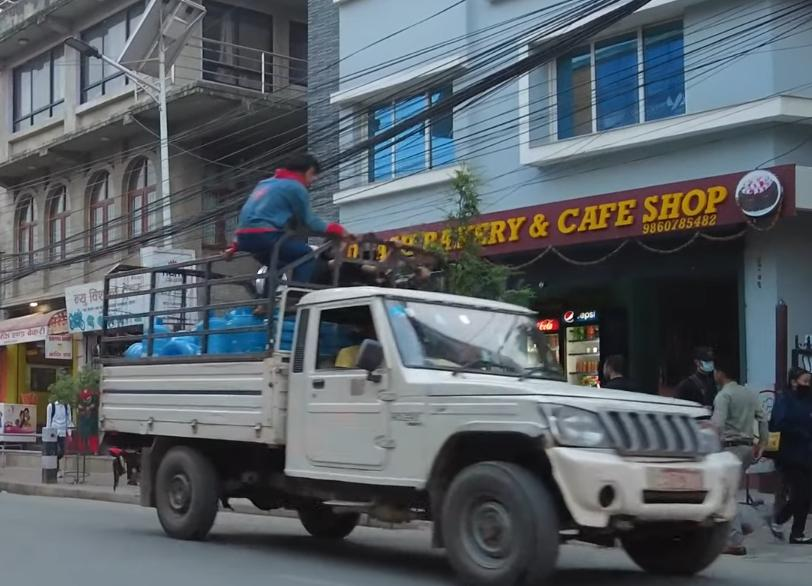transport_vehicle: (103, 242, 755, 586)
